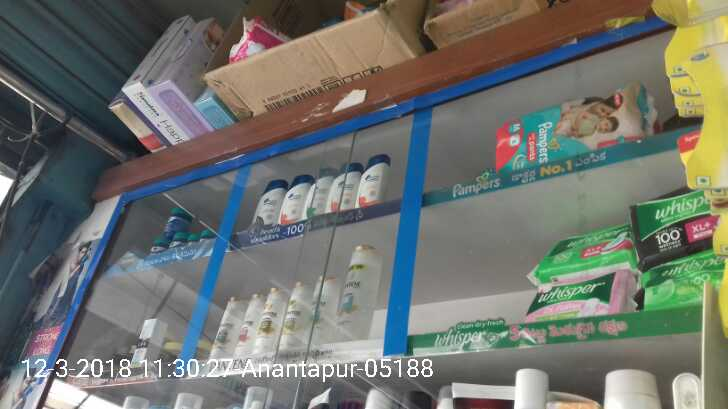vicks: (148, 206, 214, 255)
